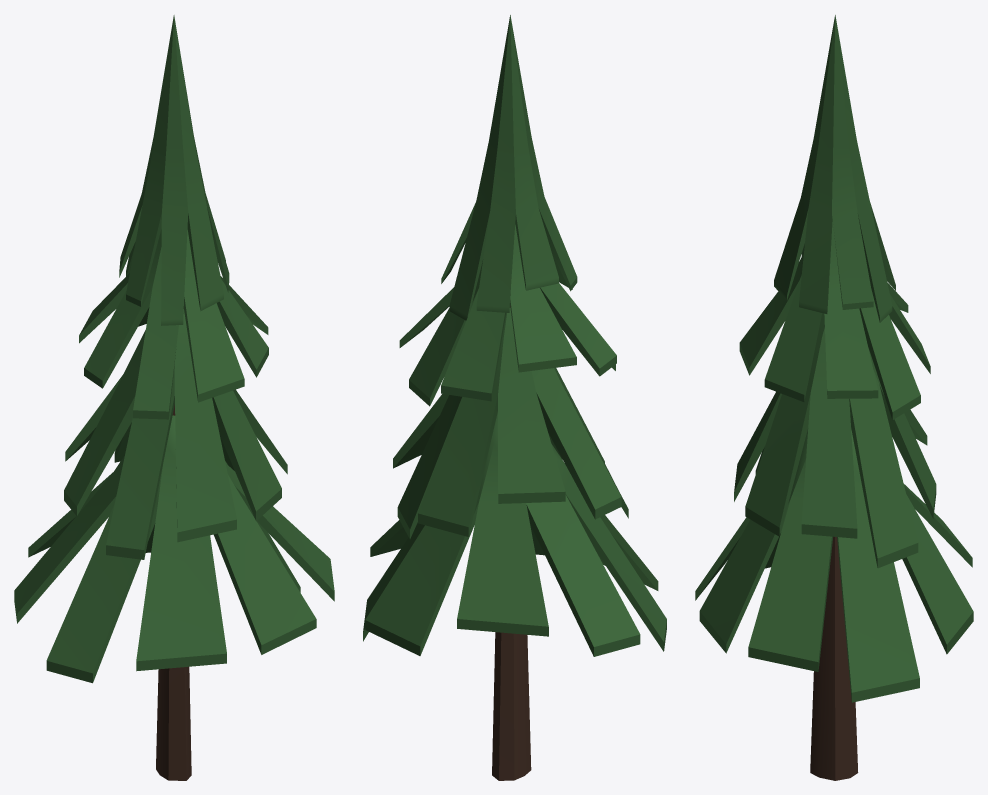
The model's file is Tree_Spruce1.fbx.
3 views of the same model, side by side, from view 1: azimuth 30°, elevation 25°; view 2: azimuth 150°, elevation 25°; view 3: azimuth 270°, elevation 25° (orthographic).
Parts seen in each view (by area): view 1: pinetreetall; view 2: pinetreetall; view 3: pinetreetall.
Part boxes in pixels (bbox=[...]): pinetreetall: bbox=[14, 15, 334, 780]; pinetreetall: bbox=[363, 15, 666, 780]; pinetreetall: bbox=[695, 15, 973, 780].
Size of the model in its own units: 569 by 1412 by 469.
